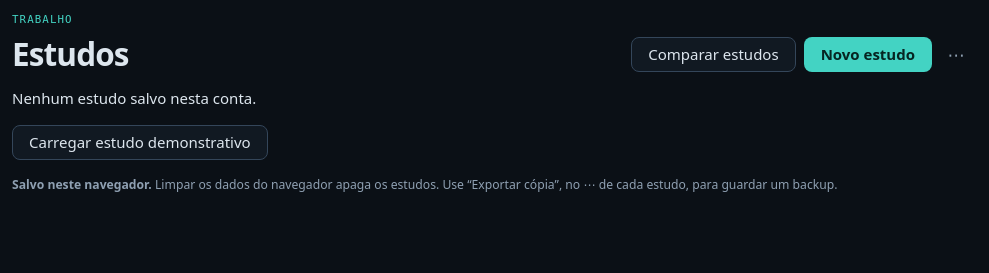
Test: StudiesPage demo recovery › mostra falha da restauração e permite tentar novamente
Click the button "Carregar estudo demonstrativo" at (140, 143), box [12,125,268,160]
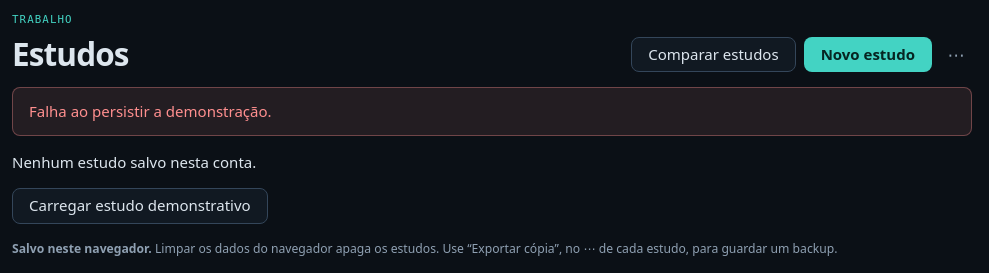
Expected: the button "Carregar estudo demonstrativo" is enabled, [12,188,268,224]
Now the message shows "Falha ao persistir", box [29,101,272,121]
